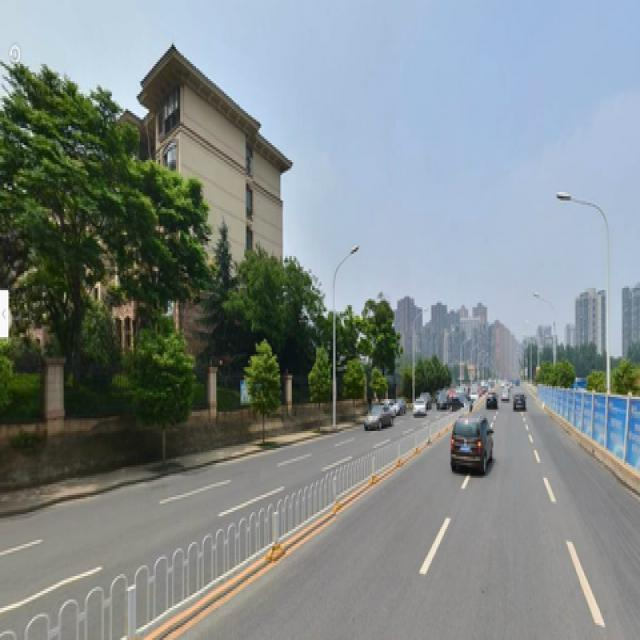cinn: (144, 331, 184, 472), (250, 341, 278, 446), (309, 350, 328, 418)
